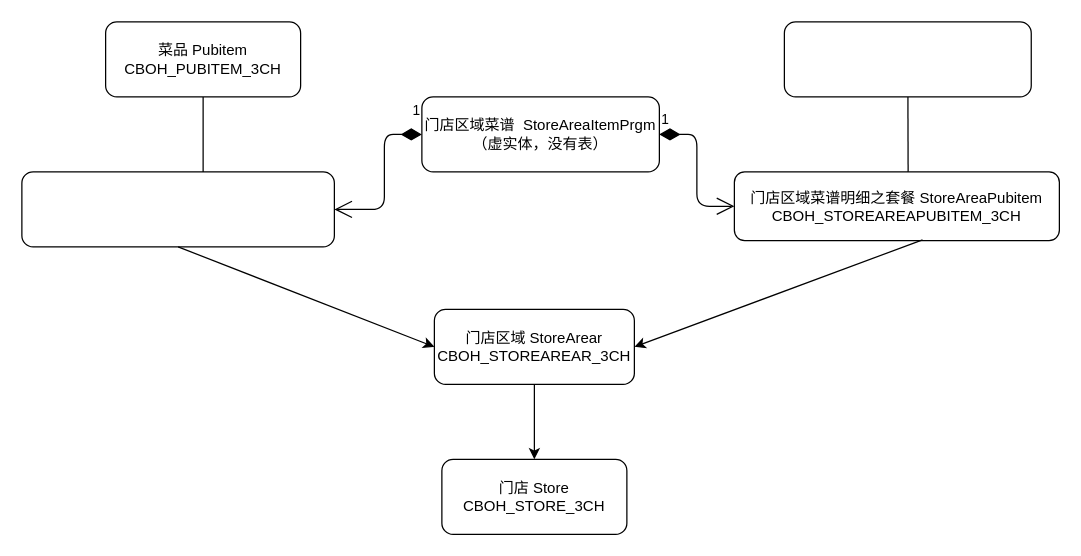
The diagram is 1081 pixels wide and 556 high, and some of its shapes have lost their labels. The centre of each missing label's shape, as x and y in pixels:
"套餐 PubPack CBOH_PUBPACK_3CH" goes at point 907,59.
"门店区域菜谱明细之菜品 StoreAreaPubitem CBOH_STOREAREAPUBITEM_3CH" goes at point 177,209.
